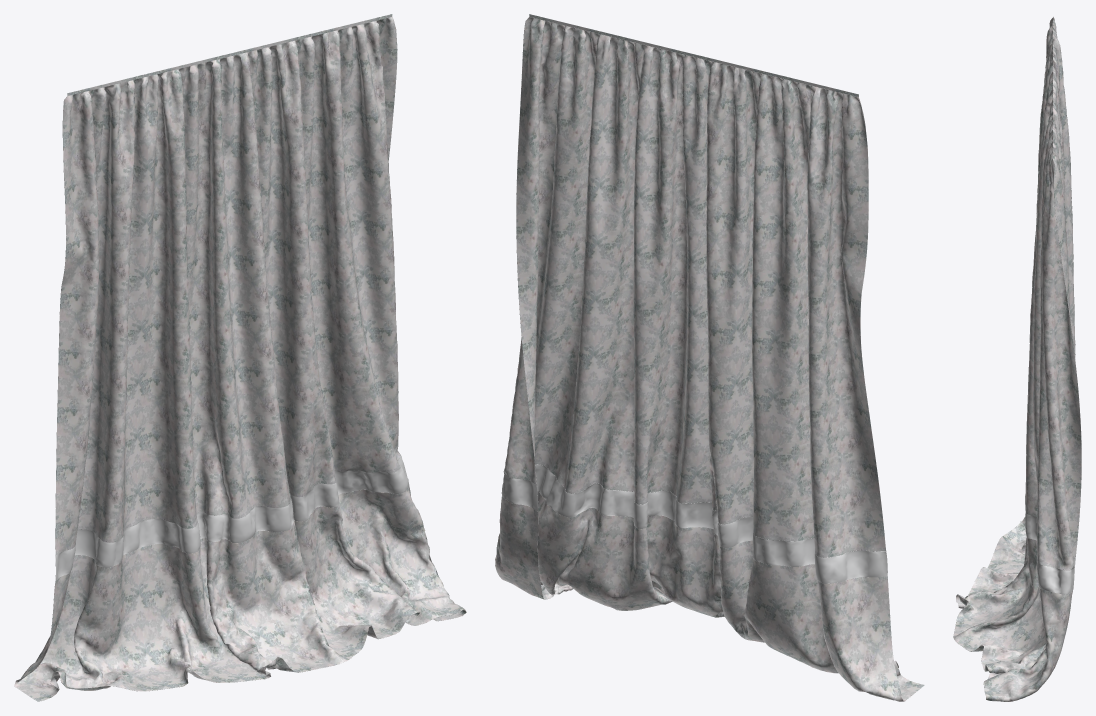
File: curtain.glb
3 renders of one model, left to right at view 1: azimuth 30°, elevation 25°; view 2: azimuth 150°, elevation 25°; view 3: azimuth 270°, elevation 25°, orthographic. The views are drawn at different scales.
Parts seen in each view (by area): view 1: Object_2, Object_5, Object_4; view 2: Object_2, Object_5, Object_4; view 3: Object_2, Object_5, Object_4.
Part boxes in pixels (x1,y1,x2,y2): Object_2: [14, 14, 466, 701]; Object_5: [55, 453, 408, 580]; Object_4: [14, 14, 466, 701]; Object_2: [495, 14, 924, 701]; Object_5: [501, 464, 887, 583]; Object_4: [505, 14, 923, 700]; Object_2: [953, 17, 1081, 701]; Object_5: [1025, 494, 1075, 594]; Object_4: [954, 17, 1081, 694].
Size of the model in its own units: 169 by 228 by 50.23.
Materials: 2 (1 with a texture image).
